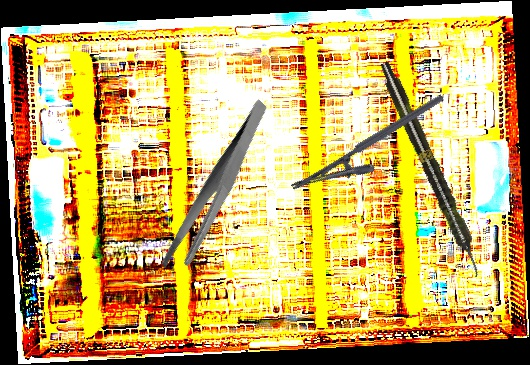Dressing Forceps: (128, 98, 306, 279)
Handpiece: (375, 59, 488, 280)
Needle Holder: (289, 93, 458, 212)
